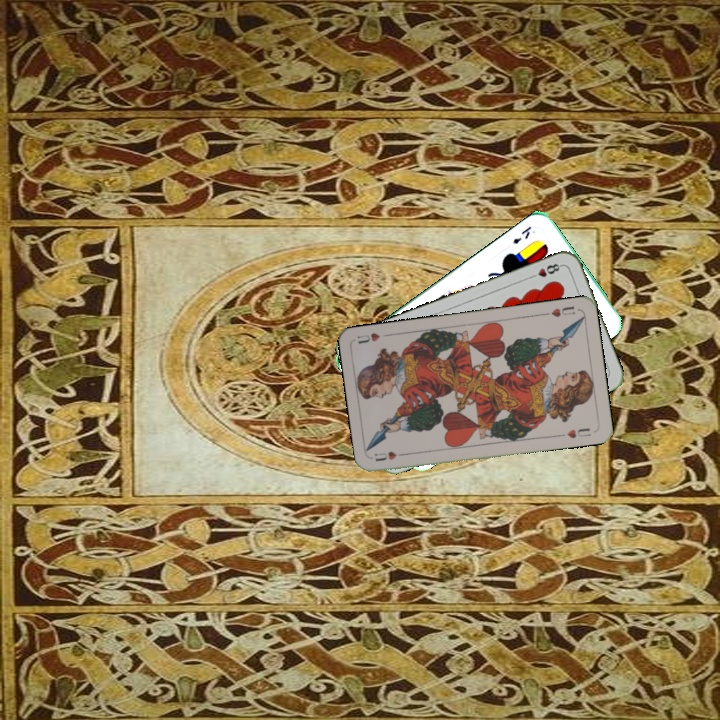EK: (509, 222, 534, 247)
H8: (526, 259, 565, 281)
HU: (371, 447, 410, 464), (540, 302, 578, 319)
